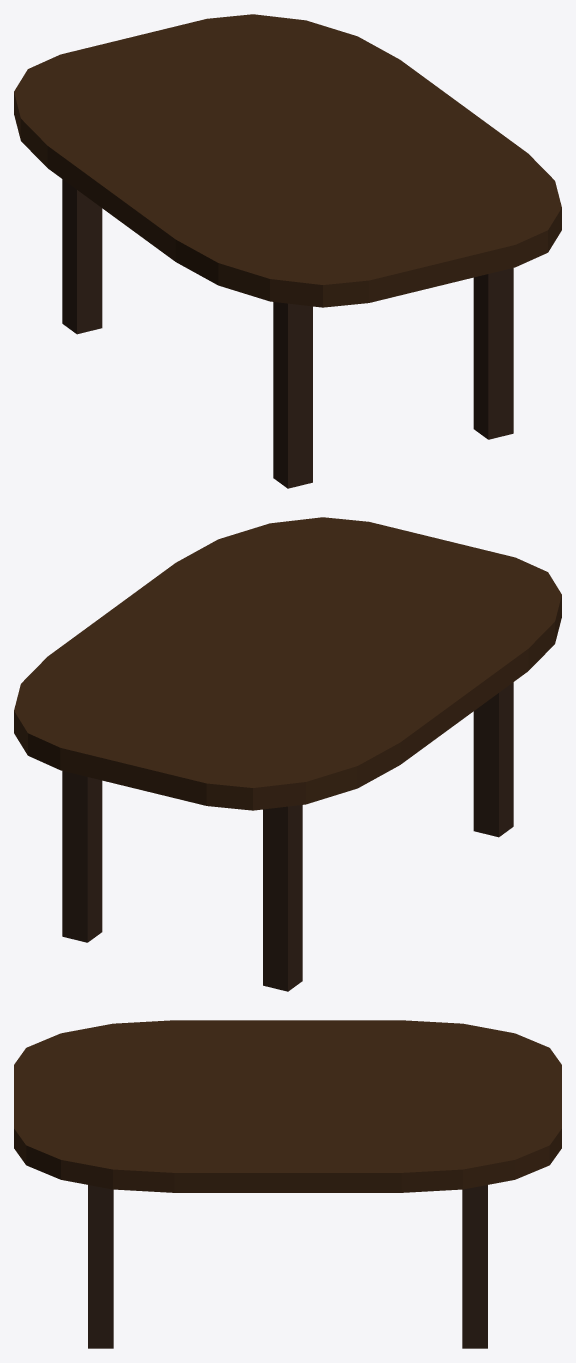
File: Dinning Table.fbx
3 views of the same model, one above another, from view 1: azimuth 30°, elevation 25°; view 2: azimuth 150°, elevation 25°; view 3: azimuth 270°, elevation 25° (orthographic). The views are drawn at different scales.
Visible parts, largest first — view 1: Cube.001; view 2: Cube.001; view 3: Cube.001.
Part boxes in pixels (x1,y1,x2,y2): Cube.001: (14,14,561,488); Cube.001: (14,517,561,991); Cube.001: (14,1020,561,1348).
Size of the model in its own units: 390 by 242 by 591.
